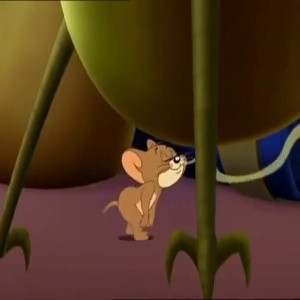Jerry: (118, 130, 193, 190)
